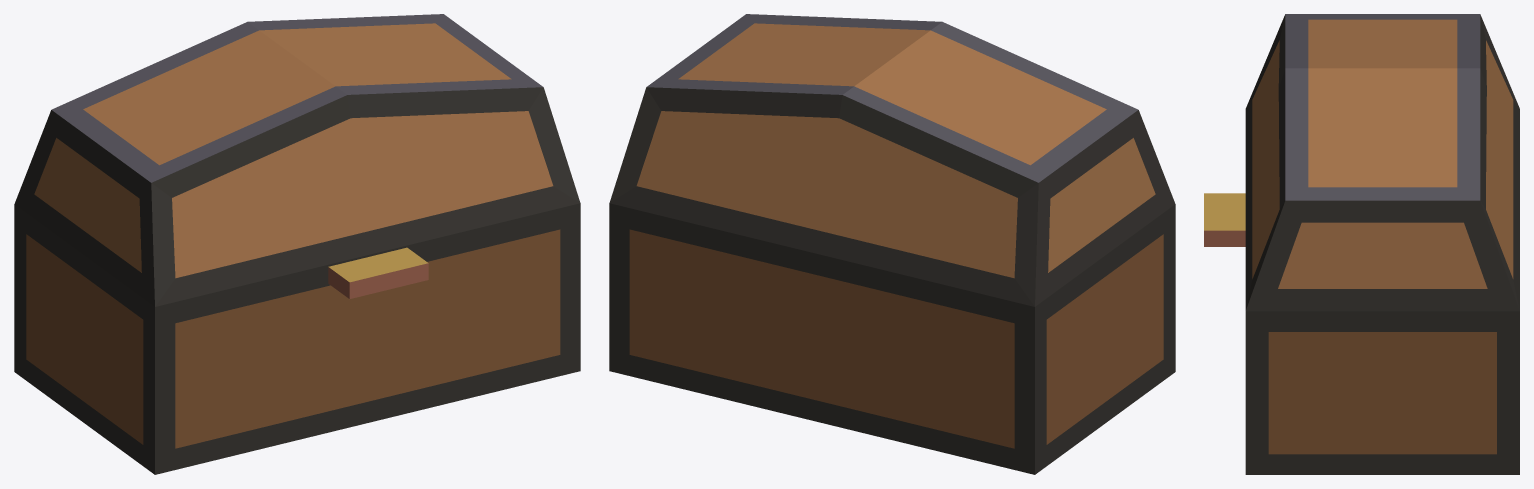
The model's file is TB_D_Prop_ChestB_B.FBX.
The picture shows the model from 3 angles, left to right: view 1: azimuth 30°, elevation 25°; view 2: azimuth 150°, elevation 25°; view 3: azimuth 270°, elevation 25°; orthographic projection. The views are drawn at different scales.
Parts seen in each view (by area): view 1: TB_D_Prop_ChestB_B; view 2: TB_D_Prop_ChestB_B; view 3: TB_D_Prop_ChestB_B.
Boxes of the visible parts, <box> form: TB_D_Prop_ChestB_B: <box>14,14,580,474</box>; TB_D_Prop_ChestB_B: <box>609,14,1175,474</box>; TB_D_Prop_ChestB_B: <box>1204,14,1519,474</box>.
Bounding box in the file's own units: 1.05 × 0.7358 × 0.6895.
